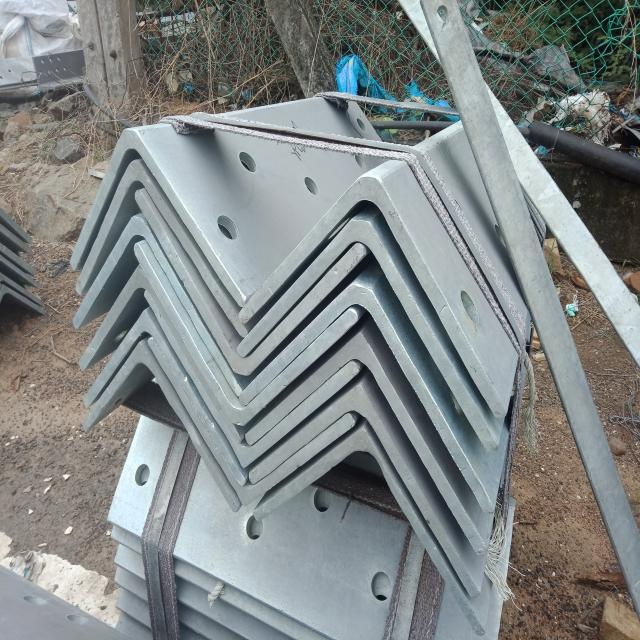metal-angles: (239, 176, 507, 419), (237, 219, 497, 453), (239, 285, 494, 513), (245, 332, 488, 556), (249, 384, 480, 598), (252, 425, 485, 636), (135, 190, 366, 376), (134, 244, 357, 426), (144, 291, 359, 468), (148, 338, 355, 507), (70, 129, 245, 307), (76, 159, 247, 338), (73, 216, 241, 396), (79, 264, 241, 443), (82, 310, 246, 485), (82, 342, 239, 512)
